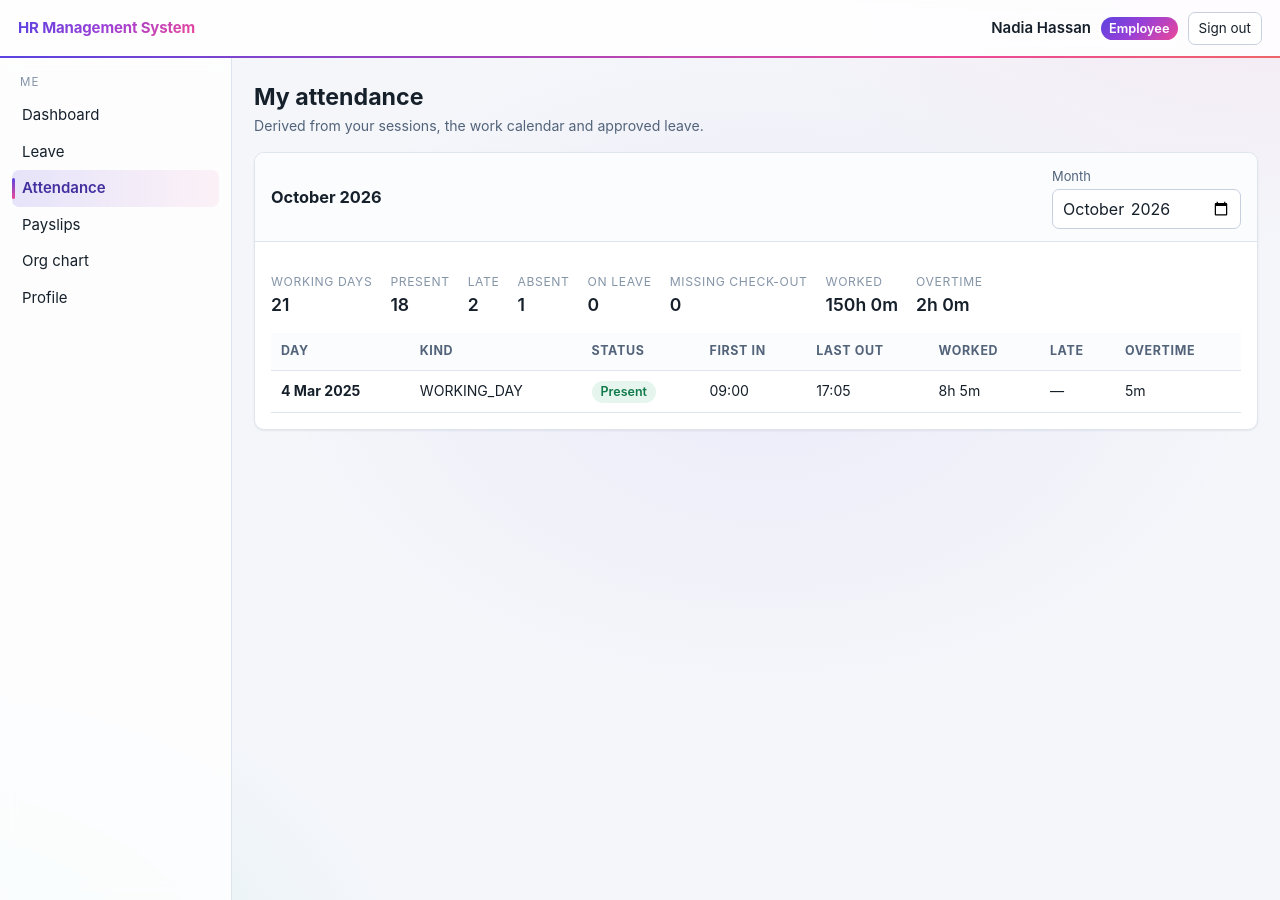
attendance page › refetches the chosen month when the picker changes
Expected: the text "Working days" is shown, [271,273,372,292]
Replace the text in the field named "Pick a month" with "2024-02" at (1146, 209), box [1052,189,1241,229]
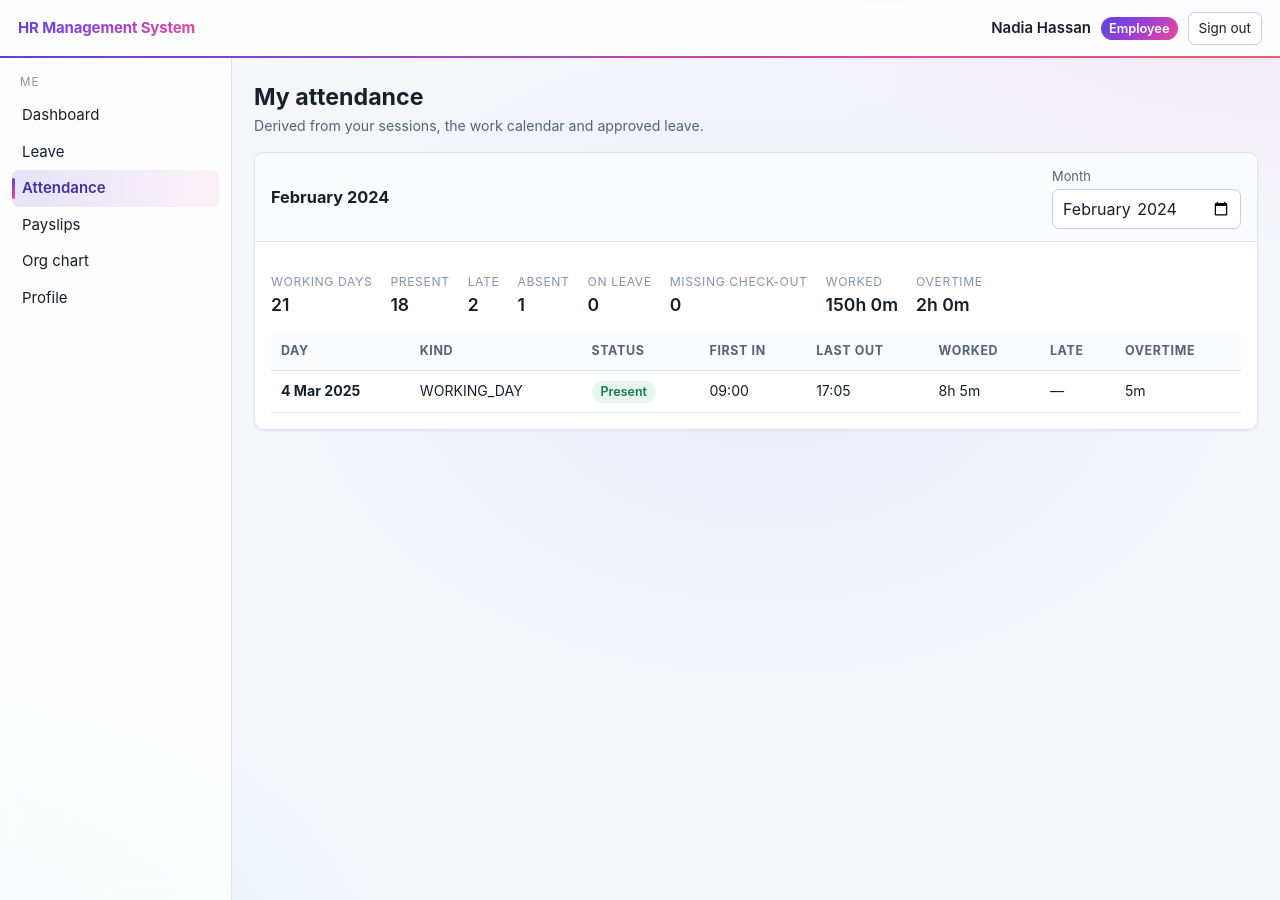
Expected: the heading "February 2024" is shown, [271,185,389,209]
